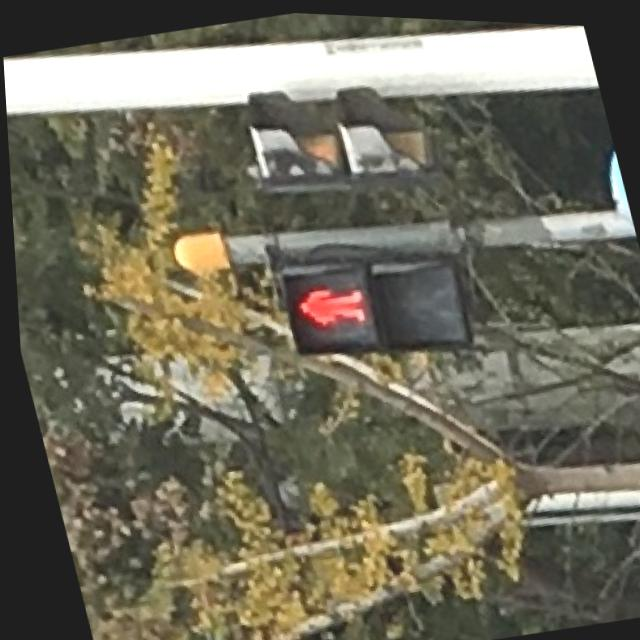red_light: (279, 258, 375, 348)
